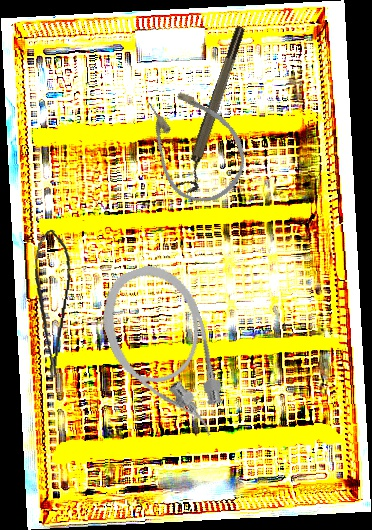Cannula: (88, 254, 241, 457), (128, 71, 261, 216)
Fixation Ring: (173, 24, 256, 197)
Micro Scissor: (22, 227, 76, 379)
